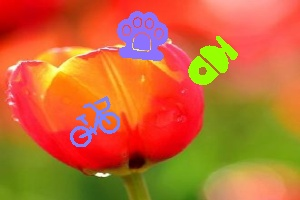摄像头: (190, 36, 238, 86)
熊爪: (116, 9, 169, 58)
自行车: (71, 98, 120, 145)
